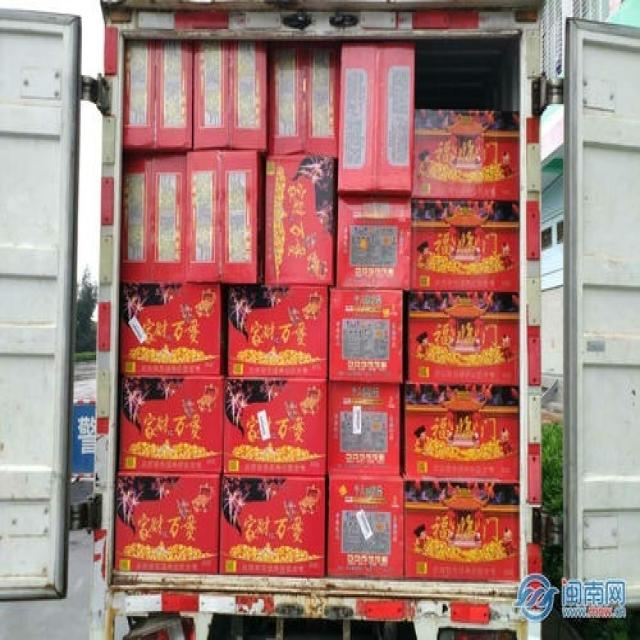box: (404, 474, 520, 582), (338, 43, 415, 196), (404, 382, 520, 478), (408, 290, 520, 386), (220, 476, 325, 577), (115, 473, 220, 573), (120, 375, 224, 473), (411, 200, 520, 292), (223, 377, 326, 474), (412, 109, 520, 200), (120, 282, 221, 377), (228, 283, 329, 377), (265, 155, 334, 285), (326, 474, 404, 579), (337, 195, 412, 290), (329, 288, 403, 384), (326, 381, 401, 474), (220, 150, 259, 283), (152, 154, 187, 283), (186, 150, 220, 282), (228, 41, 268, 150), (303, 48, 342, 157), (193, 39, 230, 150), (268, 48, 306, 155), (156, 41, 193, 150), (122, 157, 152, 283), (124, 41, 157, 148)
